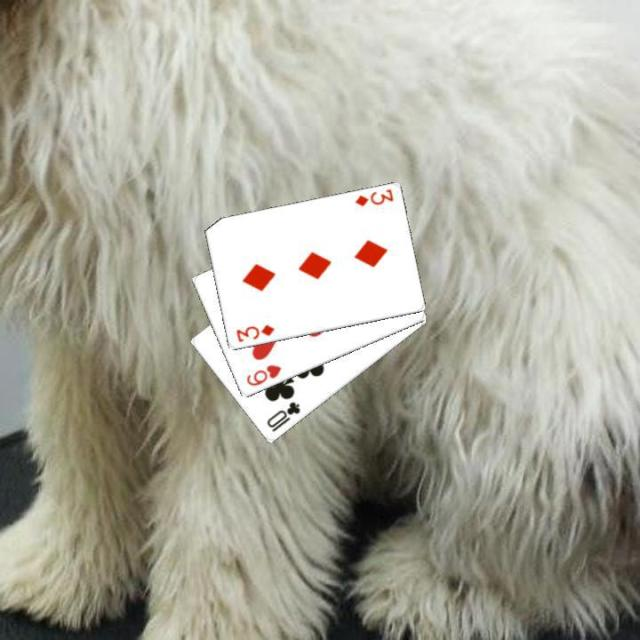10C: (262, 398, 302, 434)
3D: (350, 185, 395, 208), (232, 321, 276, 344)
6H: (242, 361, 282, 388)
